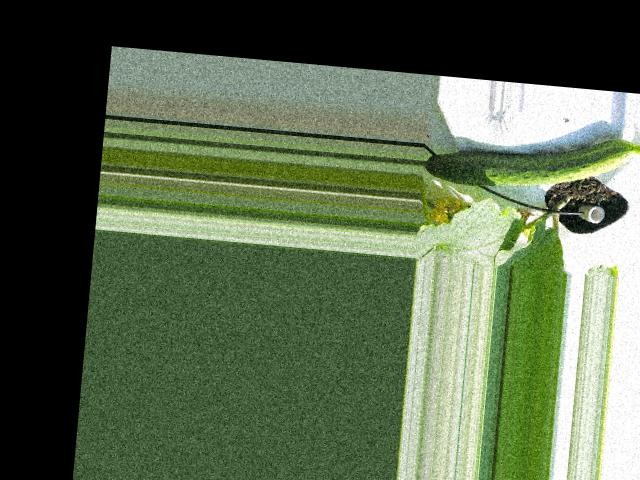cucumber: (422, 121, 638, 199)
